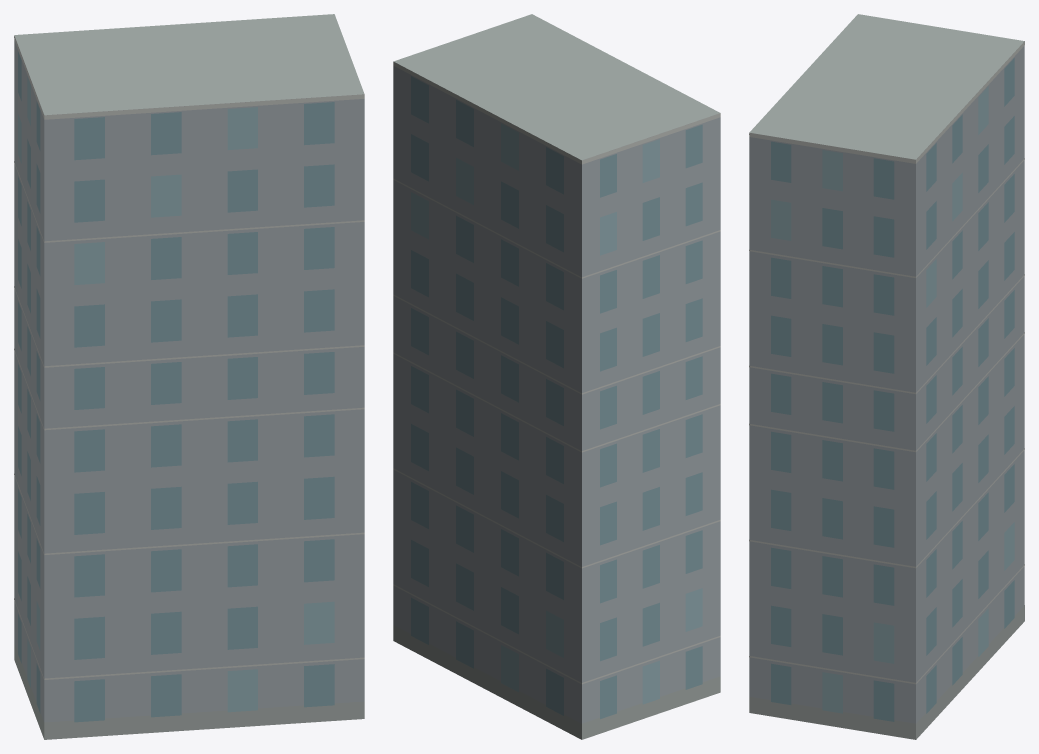
File: survey-upis-32878814.glb
3 renders of one model, left to right at view 1: azimuth 30°, elevation 25°; view 2: azimuth 150°, elevation 25°; view 3: azimuth 270°, elevation 25°, orthographic. The views are drawn at different scales.
Visible parts, largest first — view 1: survey-upis-32878814.tmp; view 2: survey-upis-32878814.tmp; view 3: survey-upis-32878814.tmp.
Part boxes in pixels (bbox=[...]): survey-upis-32878814.tmp: bbox=[14, 14, 364, 739]; survey-upis-32878814.tmp: bbox=[393, 14, 720, 739]; survey-upis-32878814.tmp: bbox=[749, 14, 1024, 739].
Size of the model in its own units: 18.18 by 33.7 by 14.53.
